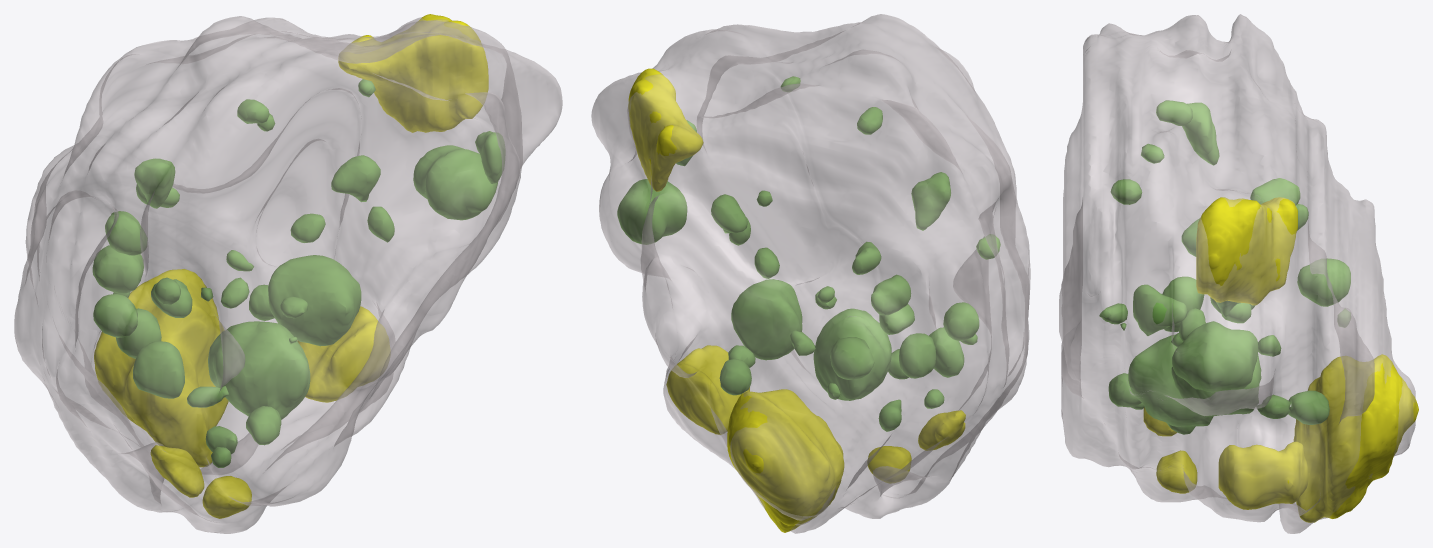
File: GEMS.glb
The picture shows the model from 3 angles, left to right: view 1: azimuth 30°, elevation 25°; view 2: azimuth 150°, elevation 25°; view 3: azimuth 270°, elevation 25°; orthographic projection. The views are drawn at different scales.
Visible parts, largest first — view 1: Surface_of_glass-mask-3.001, Surface_of_Fe.001, Surface_of_FeS.001; view 2: Surface_of_glass-mask-3.001, Surface_of_Fe.001, Surface_of_FeS.001; view 3: Surface_of_glass-mask-3.001, Surface_of_FeS.001, Surface_of_Fe.001.
Part boxes in pixels (x1=…): Surface_of_glass-mask-3.001: x1=14, y1=16, x2=562, y2=533; Surface_of_Fe.001: x1=92, y1=79, x2=505, y2=467; Surface_of_FeS.001: x1=94, y1=14, x2=488, y2=518; Surface_of_glass-mask-3.001: x1=591, y1=14, x2=1030, y2=533; Surface_of_Fe.001: x1=617, y1=76, x2=1000, y2=431; Surface_of_FeS.001: x1=628, y1=68, x2=965, y2=532; Surface_of_glass-mask-3.001: x1=1059, y1=14, x2=1415, y2=533; Surface_of_FeS.001: x1=1143, y1=197, x2=1418, y2=522; Surface_of_Fe.001: x1=1099, y1=100, x2=1350, y2=434.
Size of the model in its own units: 0.611 by 0.5896 by 0.393.
